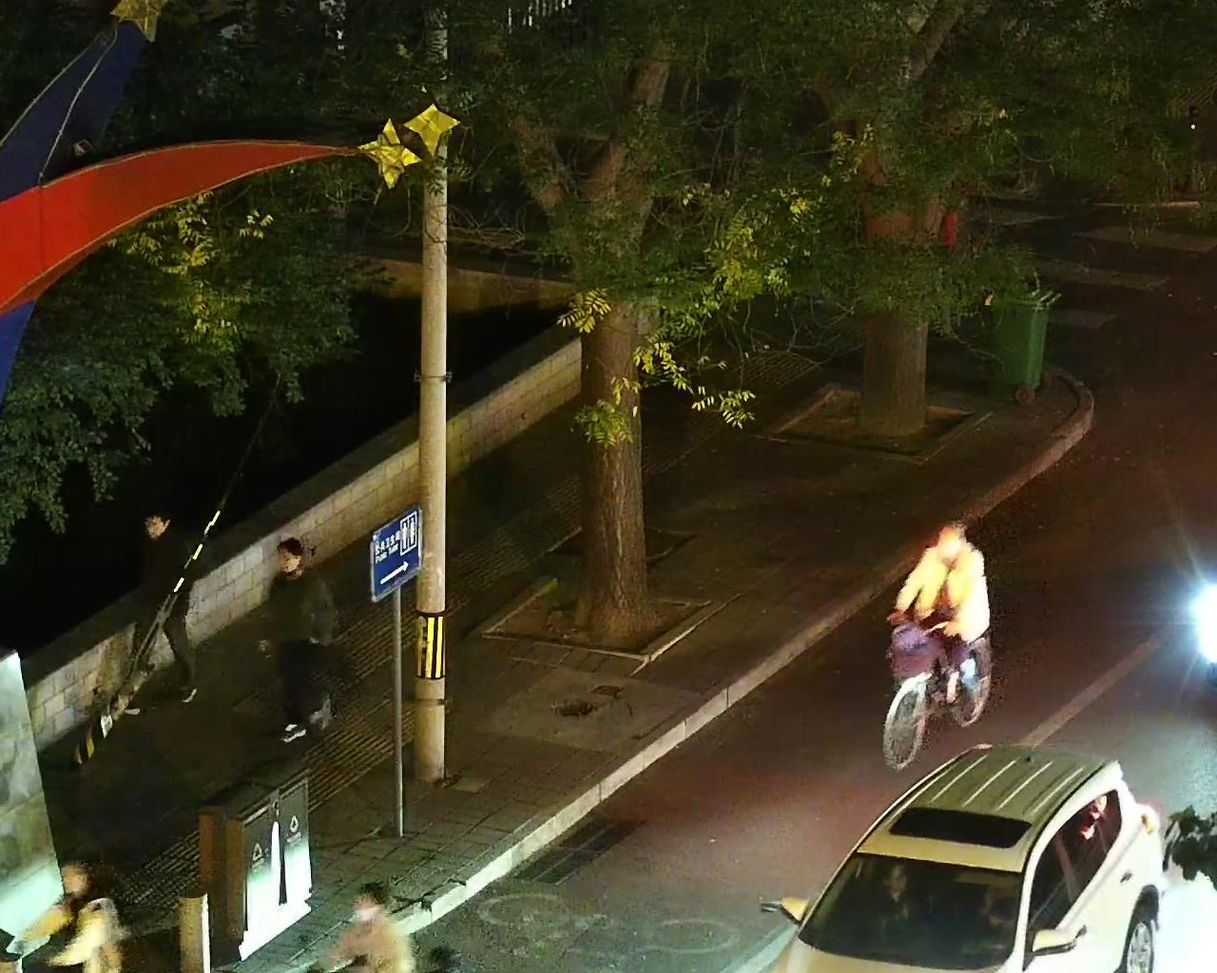person: (882, 521, 985, 714), (123, 502, 199, 715), (252, 538, 330, 745), (19, 849, 130, 973), (312, 880, 415, 973)
